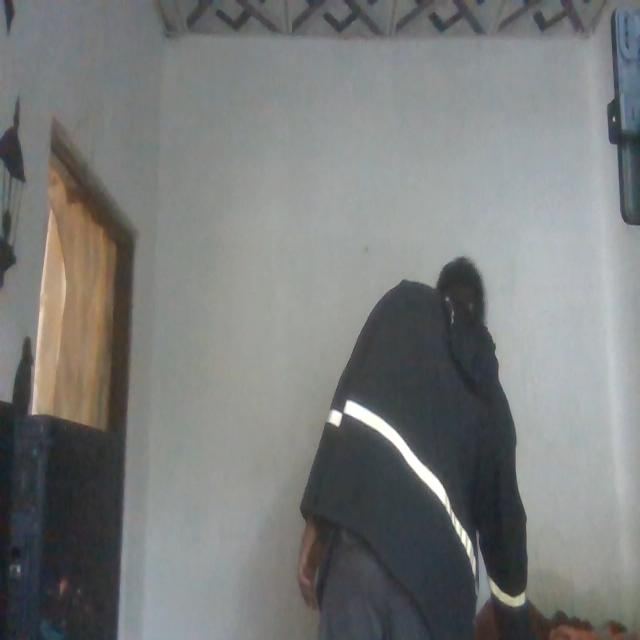Jacket_Wearer: (298, 272, 520, 640)
Person: (282, 200, 526, 640)
